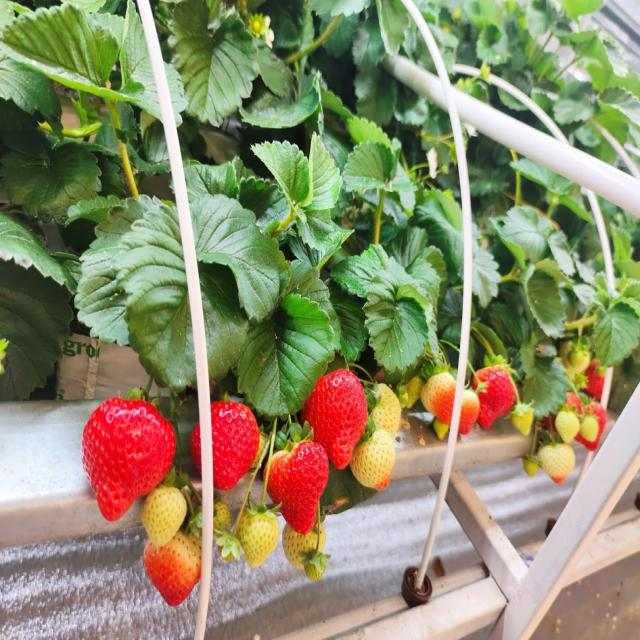Ripe Strawberry: (80, 399, 176, 485), (193, 403, 253, 482), (310, 376, 363, 465), (267, 476, 334, 536), (145, 561, 195, 609), (483, 368, 514, 414), (591, 362, 604, 397), (439, 398, 454, 425), (594, 408, 607, 420)
